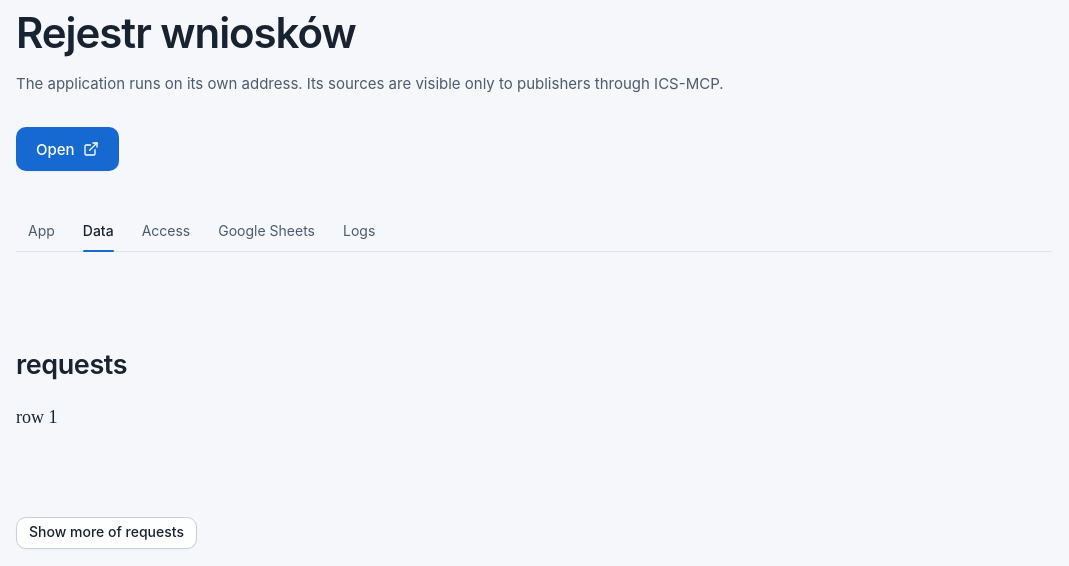
it: MicroAppPage, Data tab › renders the document HTML and loads more of one collection with its cursor
The width and height of the screenshot is (1069, 566).
Expected: the text "row 1" is shown, top-left (16, 407), bottom-right (58, 427)
Click the button "Show more of requests" at (106, 533), box top-left (16, 517), bottom-right (197, 549)
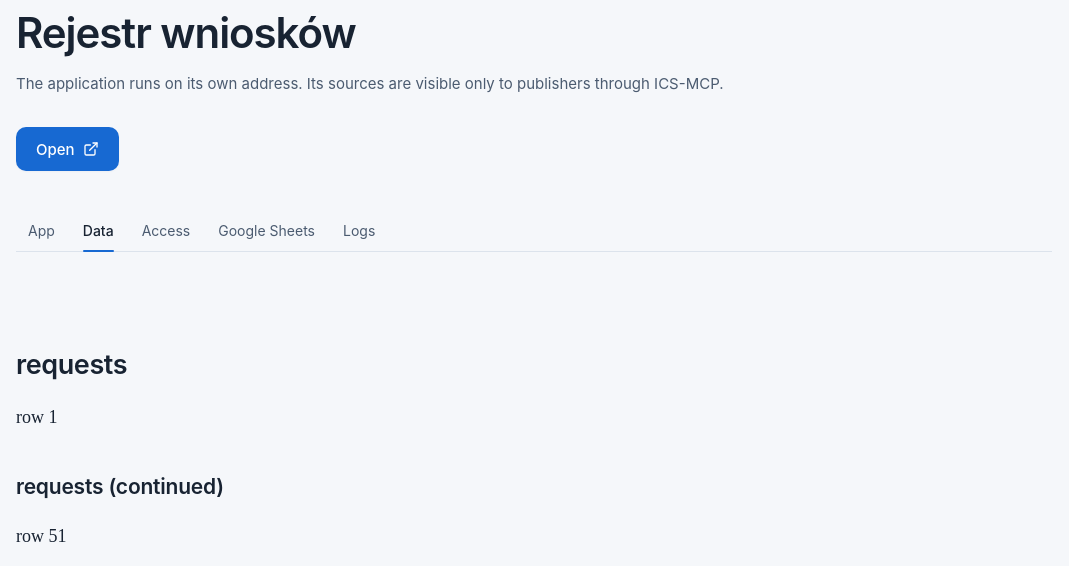
Now the text "row 51" is shown, box top-left (16, 526), bottom-right (66, 546)
Now the button "Show more of requests" is gone
